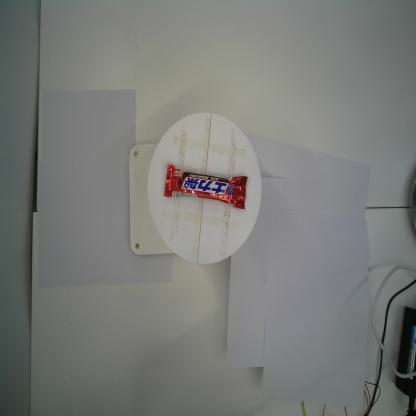Chocolate: (162, 162, 249, 213)
